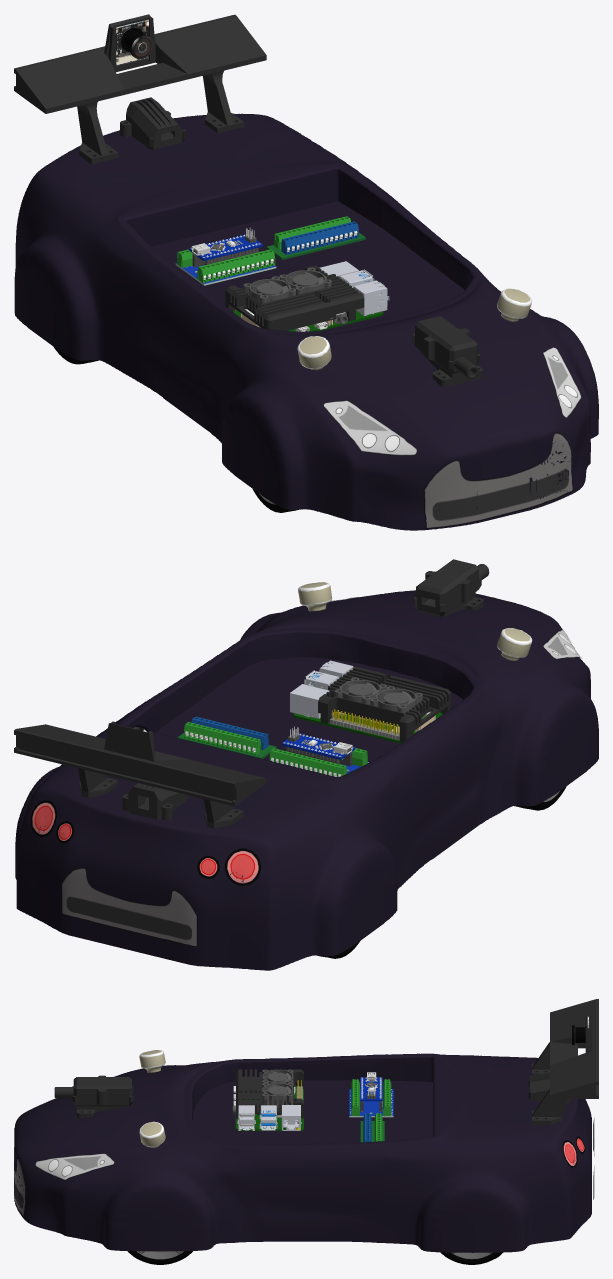
File: car2.glb
3 views of the same model, one above another, from view 1: azimuth 30°, elevation 25°; view 2: azimuth 150°, elevation 25°; view 3: azimuth 270°, elevation 25° (orthographic). The views are drawn at different scales.
Parts seen in each view (by area): view 1: object 1, object 6; view 2: object 1, object 6, Solid1.003, Solid1.005; view 3: object 1, object 6, Solid1.005.
Part boxes in pixels (x1=…): object 1: x1=14, y1=14, x2=598, y2=530; object 6: x1=233, y1=261, x2=389, y2=331; object 1: x1=14, y1=559, x2=598, y2=970; object 6: x1=290, y1=660, x2=442, y2=743; Solid1.003: x1=370, y1=686, x2=422, y2=713; Solid1.005: x1=334, y1=677, x2=386, y2=704; object 1: x1=14, y1=999, x2=598, y2=1264; object 6: x1=232, y1=1080, x2=303, y2=1130; Solid1.005: x1=262, y1=1083, x2=293, y2=1107.
Size of the model in its own units: 0.2389 by 0.1743 by 0.4798.
44 materials, 4 textured.
